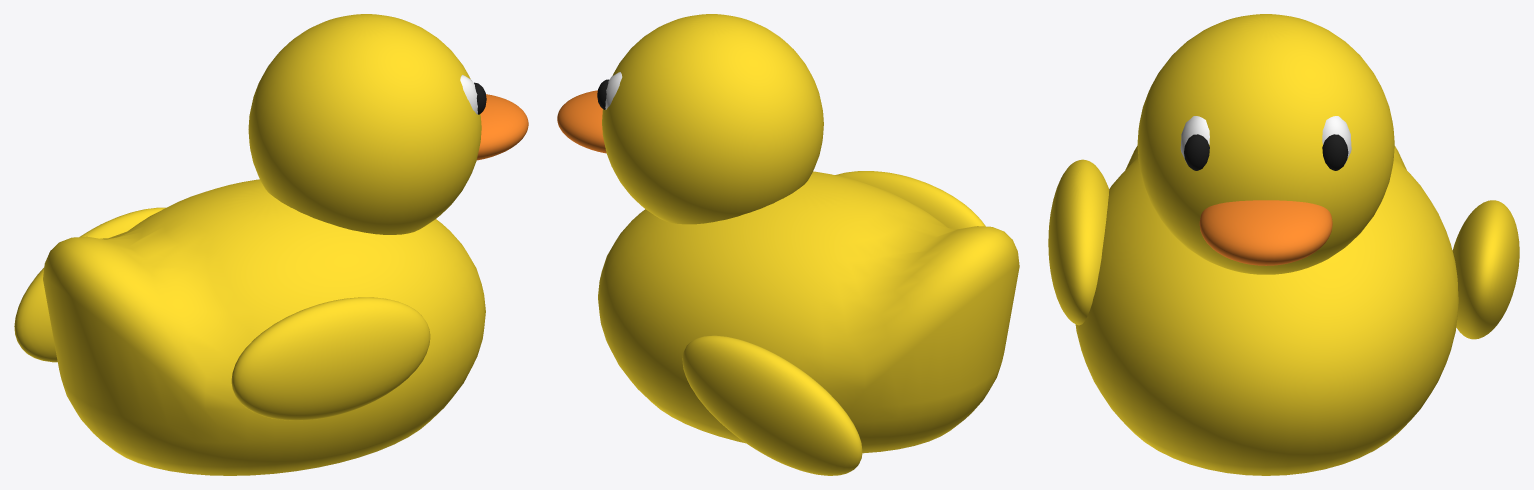
File: duck.glb
3 views of the same model, side by side, from view 1: azimuth 30°, elevation 25°; view 2: azimuth 150°, elevation 25°; view 3: azimuth 270°, elevation 25° (orthographic). The views are drawn at different scales.
Visible parts, largest first — view 1: body, head, wing.001, wing, beak; view 2: body, head, wing, wing.001, beak; view 3: body, head, wing.001, beak, wing, eye.001, eye, eye_w, eye_w.001.
Part boxes in pixels (left/top/right/bottom): body: left=43, top=179, right=485, bottom=475; head: left=248, top=14, right=481, bottom=234; wing.001: left=231, top=297, right=430, bottom=420; wing: left=14, top=207, right=165, bottom=362; beak: left=477, top=94, right=528, bottom=160; body: left=598, top=171, right=1019, bottom=453; head: left=602, top=14, right=823, bottom=224; wing: left=682, top=335, right=862, bottom=475; wing.001: left=835, top=171, right=985, bottom=228; beak: left=557, top=90, right=606, bottom=153; body: left=1075, top=145, right=1458, bottom=475; head: left=1137, top=14, right=1394, bottom=274; wing.001: left=1048, top=159, right=1109, bottom=325; beak: left=1199, top=200, right=1332, bottom=265; wing: left=1452, top=200, right=1519, bottom=339; eye.001: left=1184, top=134, right=1209, bottom=170; eye: left=1322, top=134, right=1348, bottom=170; eye_w: left=1322, top=116, right=1351, bottom=164; eye_w.001: left=1180, top=116, right=1209, bottom=164.
Bounding box in the file's own units: 12.84 × 10.27 × 10.03.
